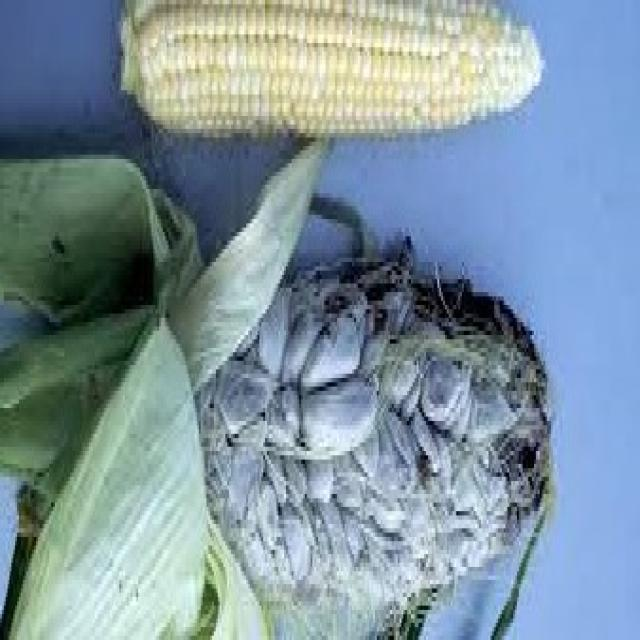Leaf_Scald: (135, 188, 595, 640)
